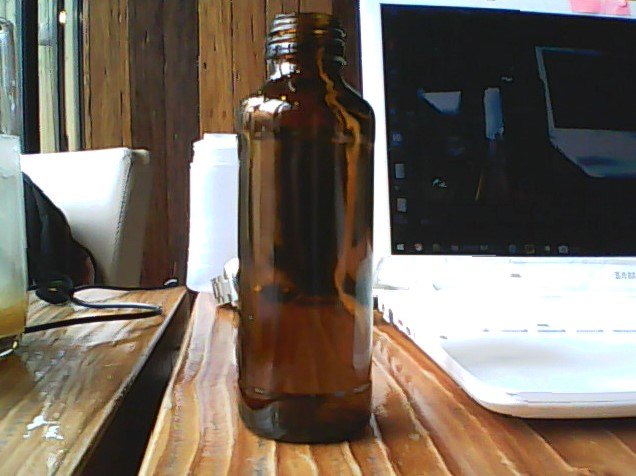Glass: (234, 8, 377, 448)
